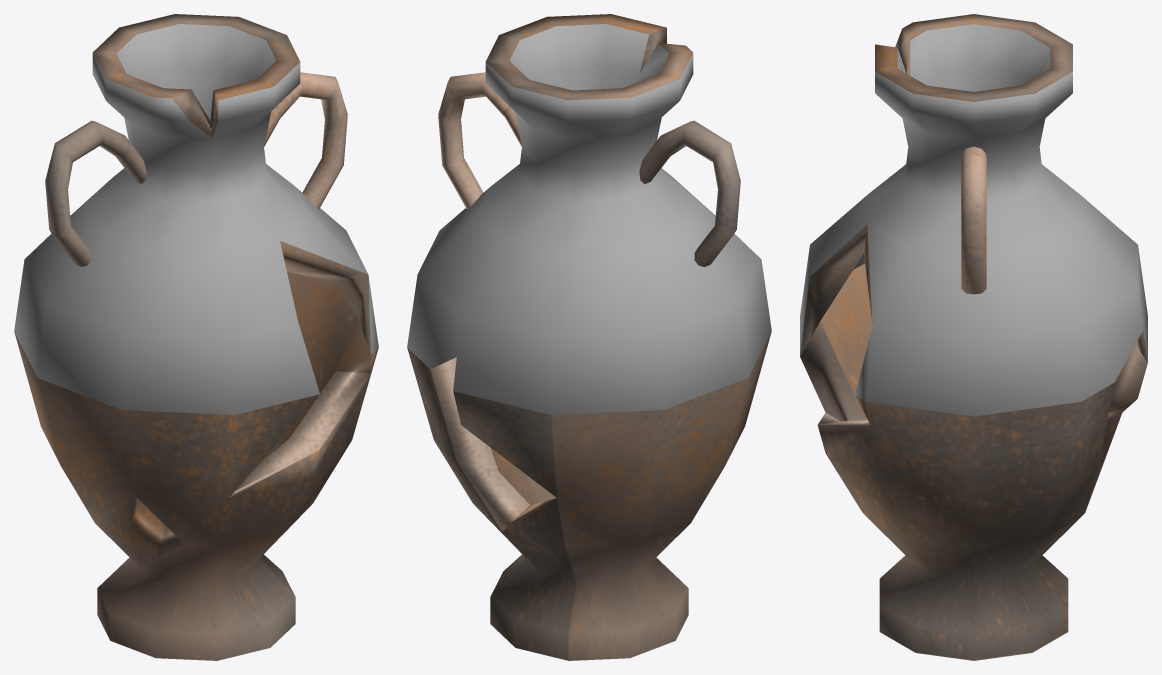
Rendered from PotBroken.fbx.
The picture shows the model from 3 angles, left to right: view 1: azimuth 30°, elevation 25°; view 2: azimuth 150°, elevation 25°; view 3: azimuth 270°, elevation 25°; orthographic projection.
Parts seen in each view (by area): view 1: polySurface5, polySurface2; view 2: polySurface5, polySurface2; view 3: polySurface5, polySurface2.
Boxes of the visible parts, bbox=[...] form: polySurface5: bbox=[14, 14, 378, 414]; polySurface2: bbox=[14, 272, 378, 660]; polySurface5: bbox=[407, 14, 771, 414]; polySurface2: bbox=[407, 332, 771, 660]; polySurface5: bbox=[800, 14, 1147, 416]; polySurface2: bbox=[800, 263, 1147, 660].
Bounding box in the file's own units: 1.38 × 2.33 × 1.31.
